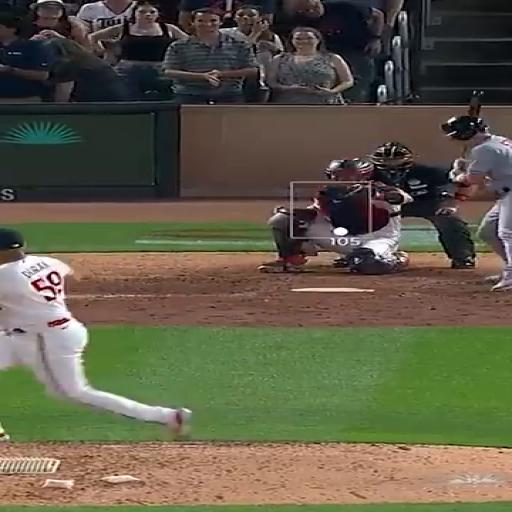bat: (468, 91, 483, 116)
